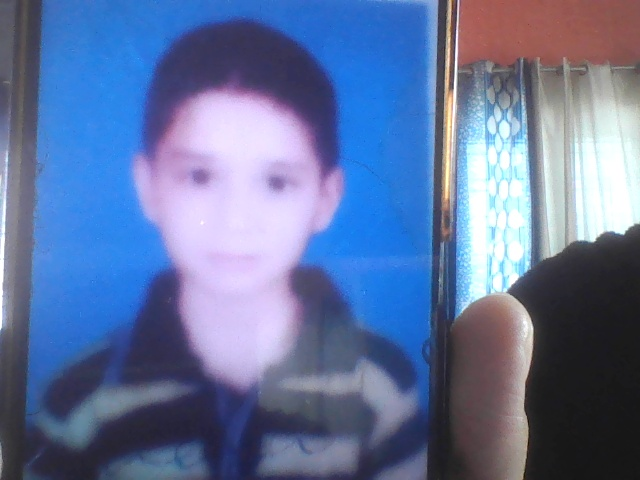fake: (135, 20, 347, 320)
